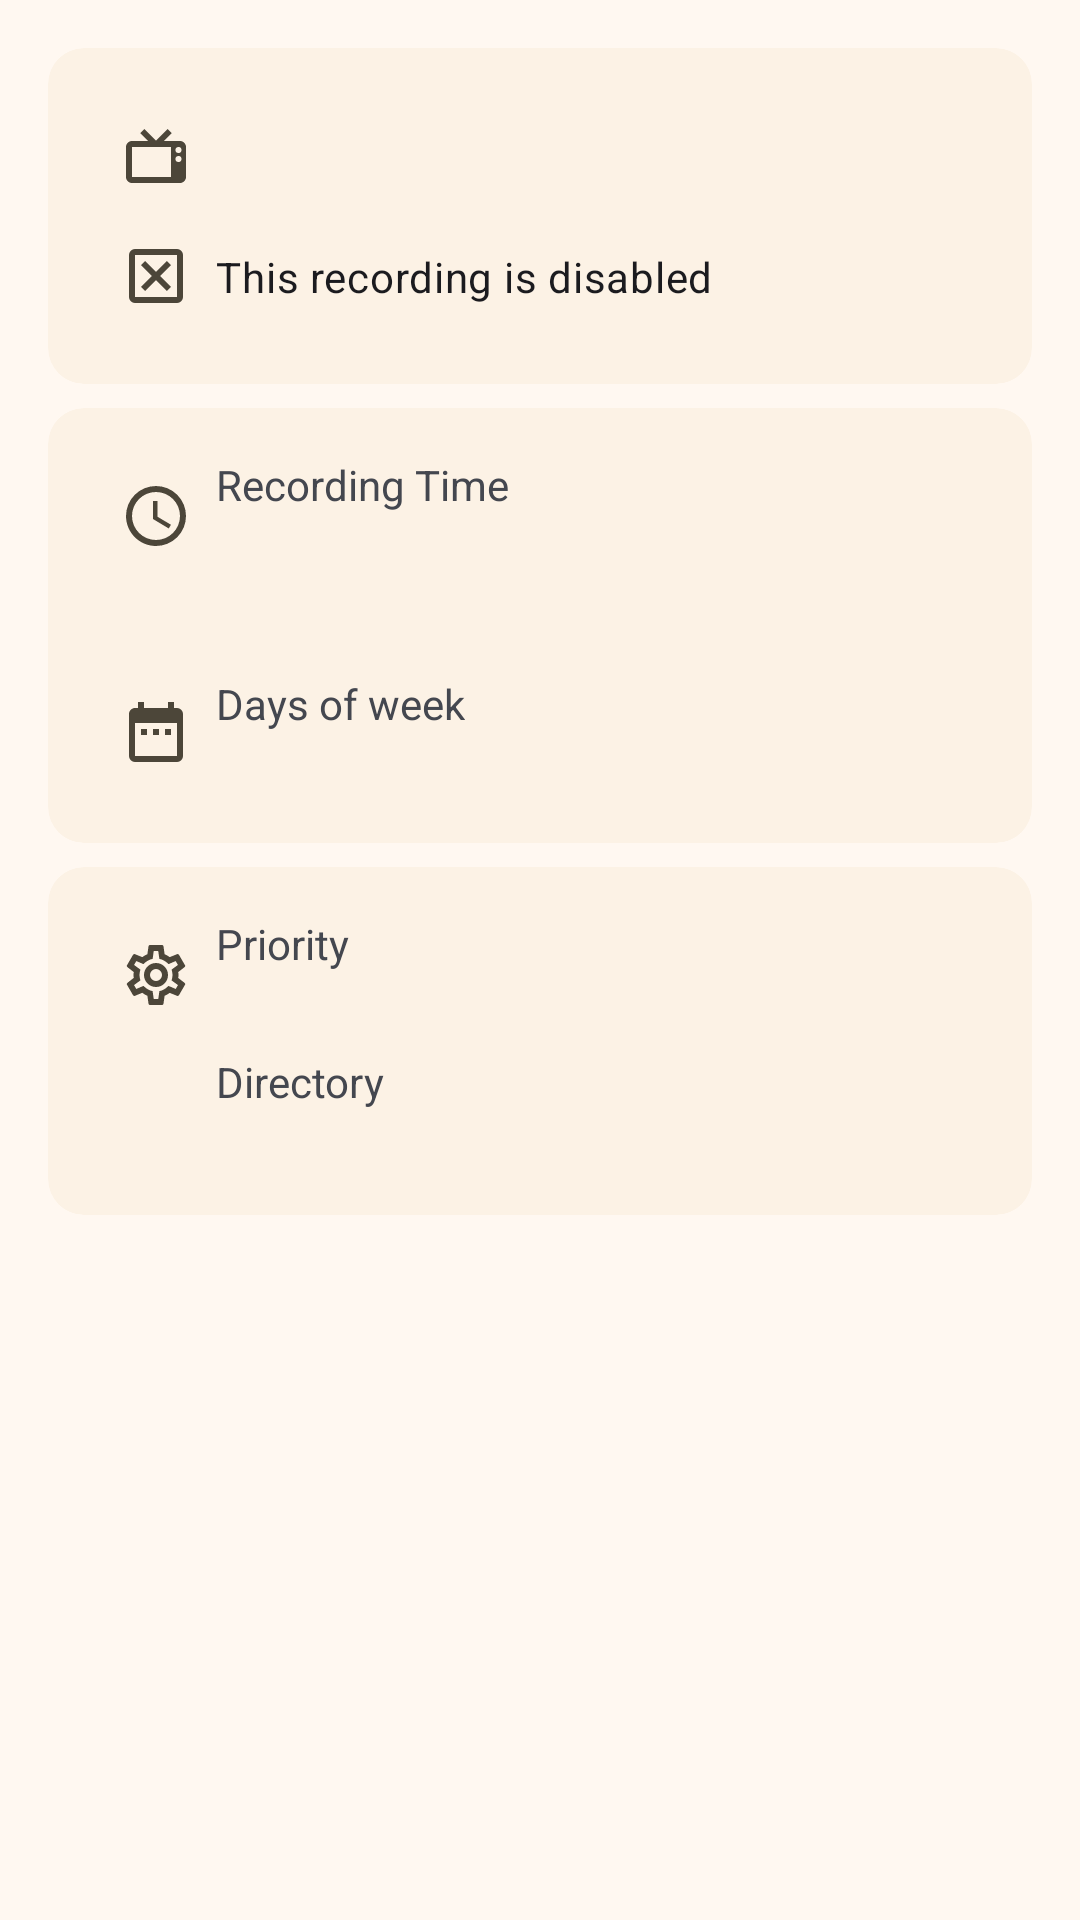

Locate icon controls on the screen. Image size 1080 × 1920, boxes as (x1,y1,x2,y2).
calendar: (129,702,183,762)
settings: (127,945,185,1005)
tv station: (126,129,186,183)
